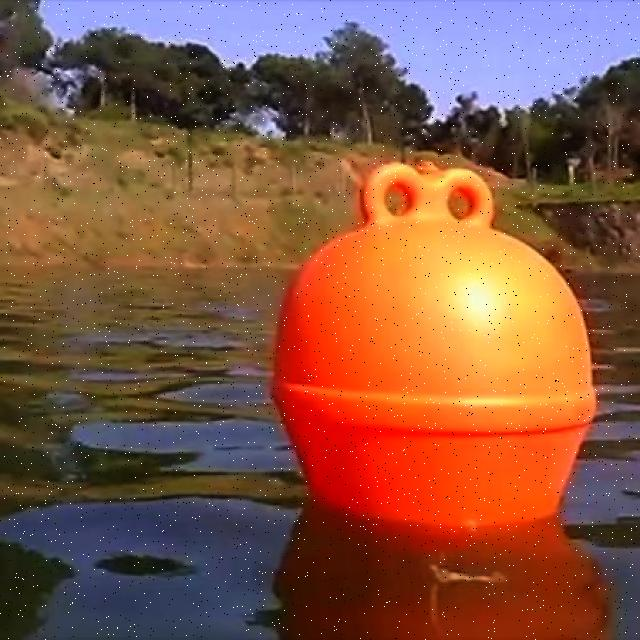buoy: (269, 157, 597, 530)
